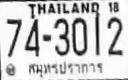0: (71, 17, 87, 55)
1: (95, 17, 99, 56)
2: (106, 16, 122, 56)
3: (53, 17, 69, 55)
4: (24, 18, 39, 56)
7: (6, 18, 21, 56)
SPK: (27, 59, 104, 79)
